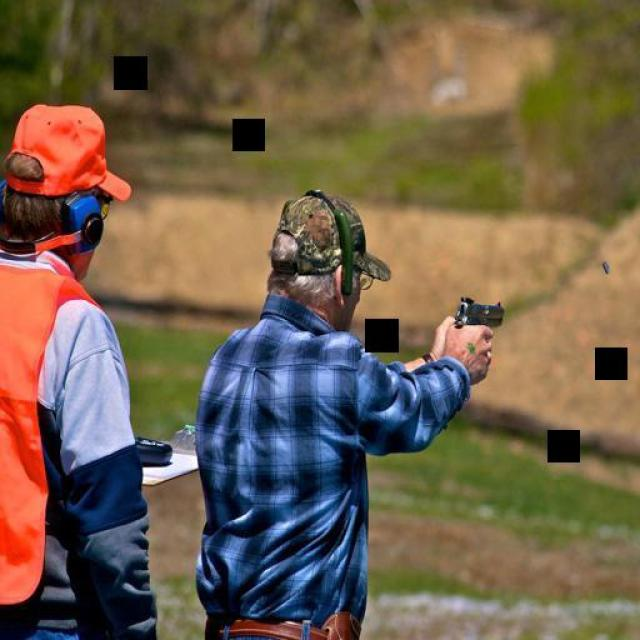gun: (439, 284, 509, 348)
